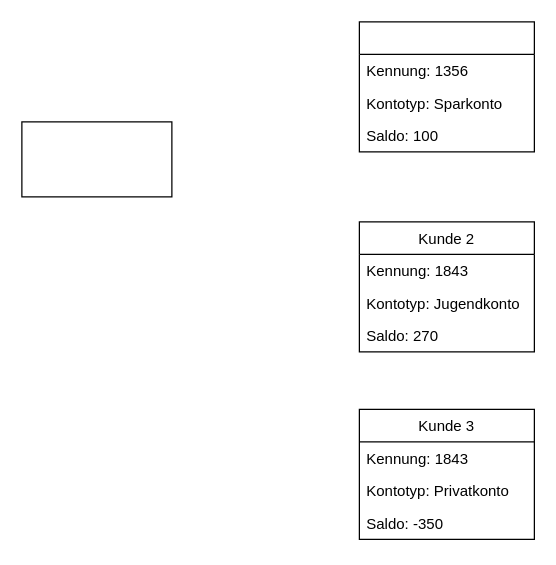
Some shapes in this 556 by 565 pixel diagram are drawn without their labels. Each missing label, with the box of its shape:
Bank: (21, 121, 172, 197)
Kunde 1: (358, 21, 534, 152)
